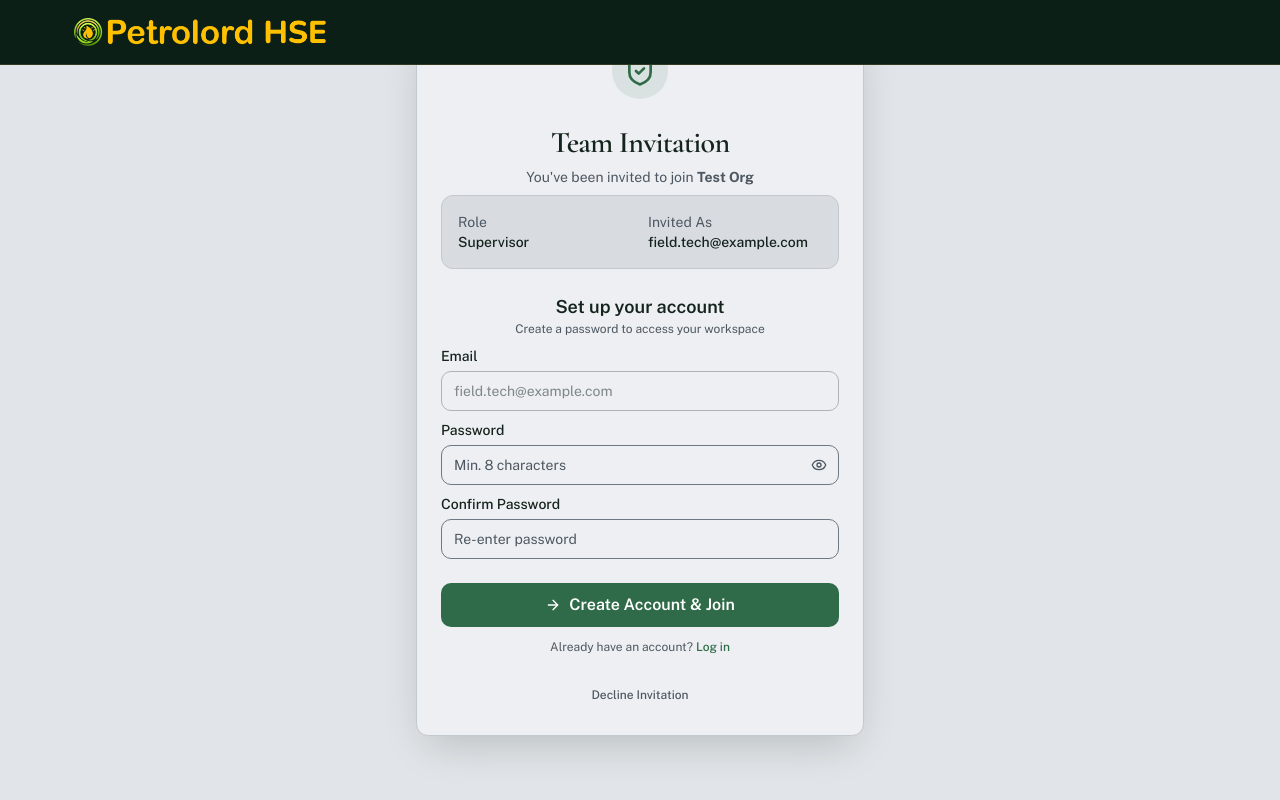
Test: further auth states on the public frame › accept invite: the decline dialog opens in the light scope
(page scrolled)
Expected: the heading "Set up your account" is shown, x1=555 y1=296 x2=725 y2=317
Click the button "Decline Invitation": (640, 695) x1=579 y1=679 x2=701 y2=711
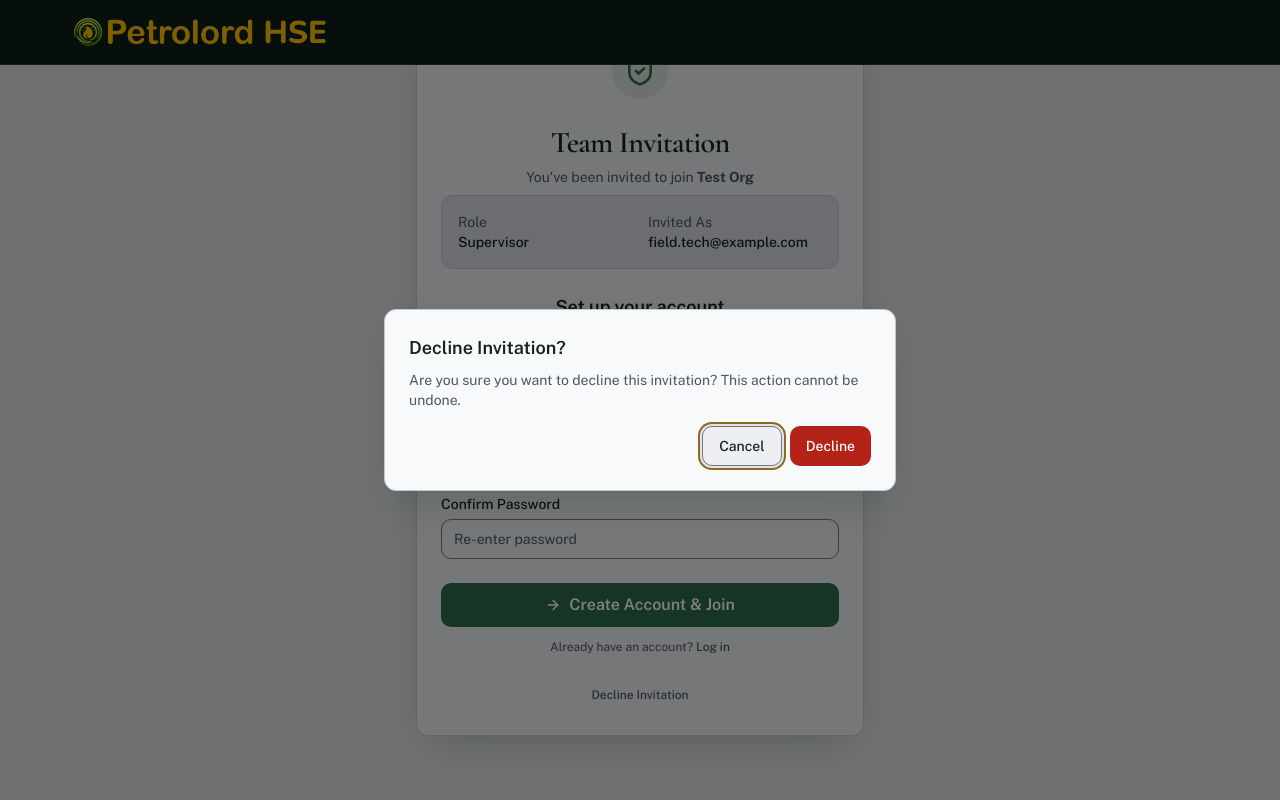
Click the button "Decline": (830, 446) x1=790 y1=426 x2=871 y2=466
(page scrolled)
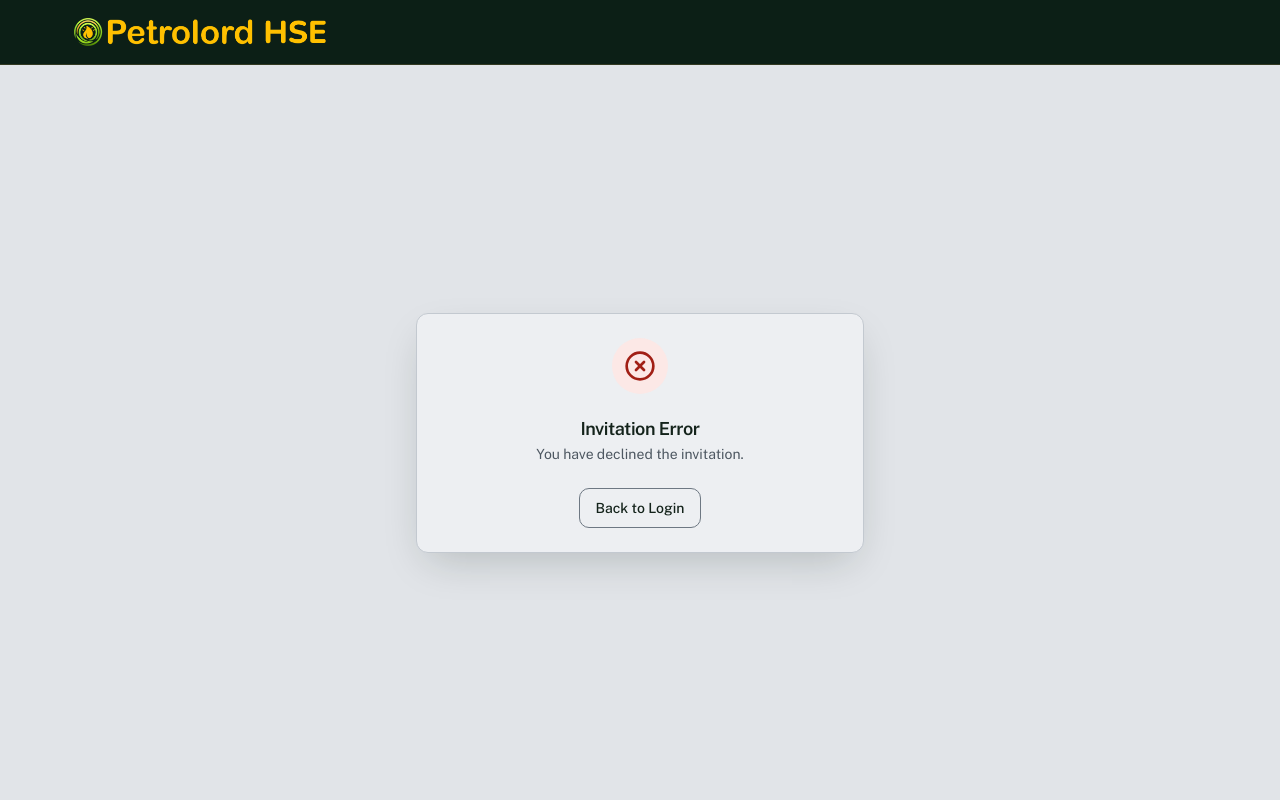
Expected: the heading "Invitation Error" is shown, x1=580 y1=418 x2=700 y2=438
Expected: the text "You have declined the invitation." is shown, x1=536 y1=446 x2=744 y2=462
